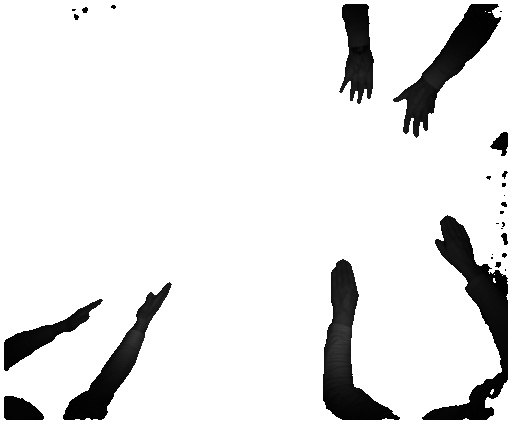hand: (392, 82, 443, 142), (432, 208, 475, 270), (336, 51, 375, 103), (328, 256, 359, 317)
spine: (137, 280, 175, 332), (58, 296, 103, 335)
